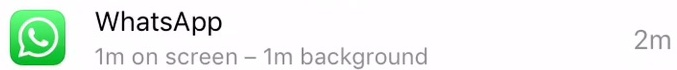name: (87, 7, 236, 39)
time: (260, 41, 298, 69), (94, 43, 131, 70)
